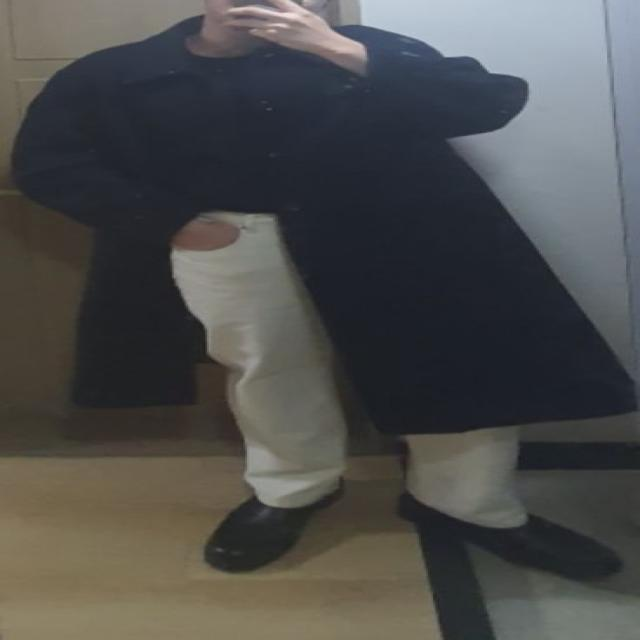coat: (14, 10, 640, 439)
cottonpants: (172, 210, 537, 530)
